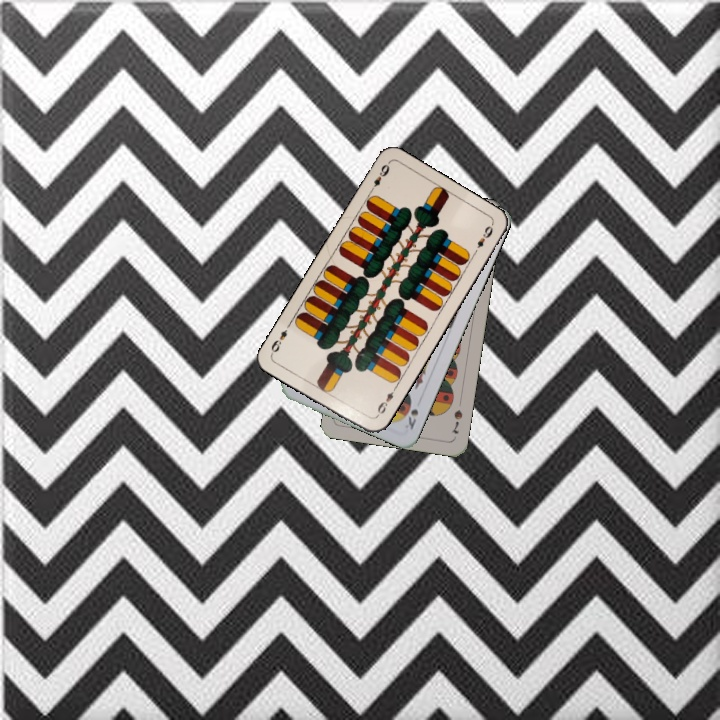E9: (371, 384, 399, 420), (365, 159, 392, 196)
S7: (448, 406, 465, 436)
SK: (404, 405, 421, 433)
